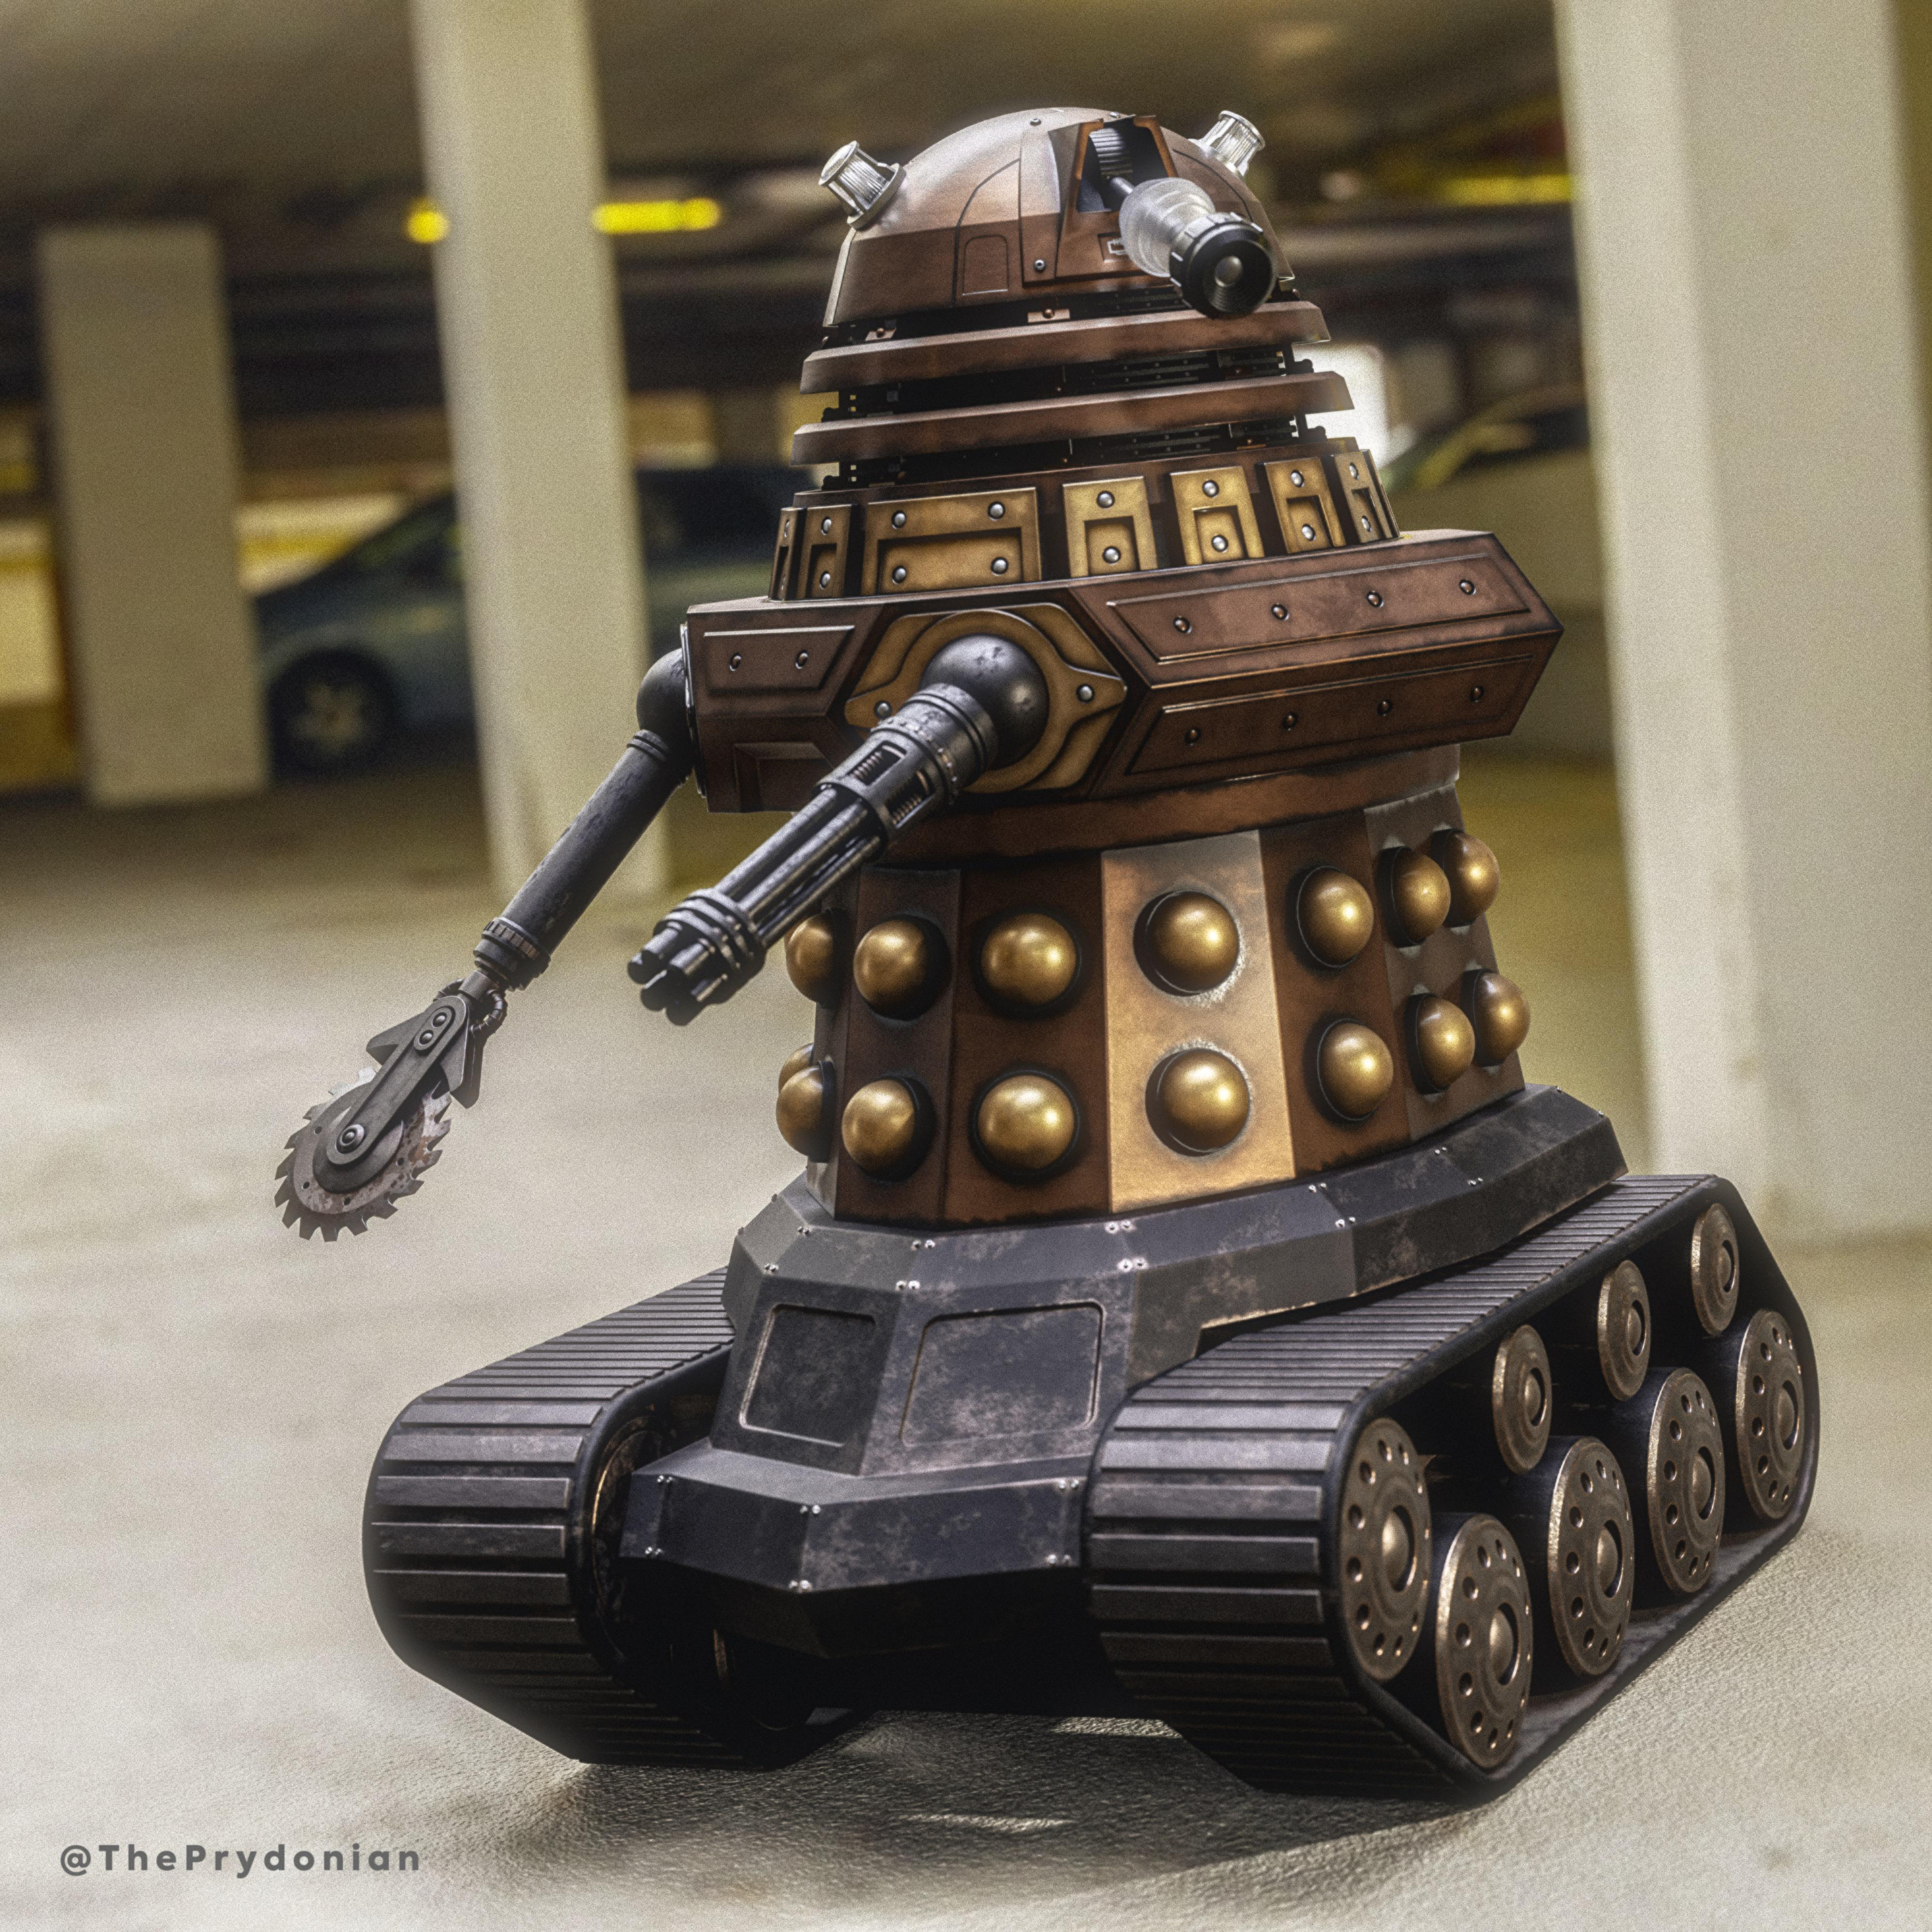dalek: (460, 0, 1520, 1185)
